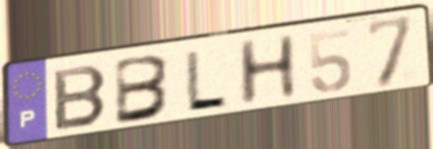5: (306, 26, 353, 95)
7: (365, 13, 417, 92)
B: (113, 52, 174, 128), (51, 63, 111, 134)
H: (234, 31, 301, 110)
L: (183, 47, 230, 112)
